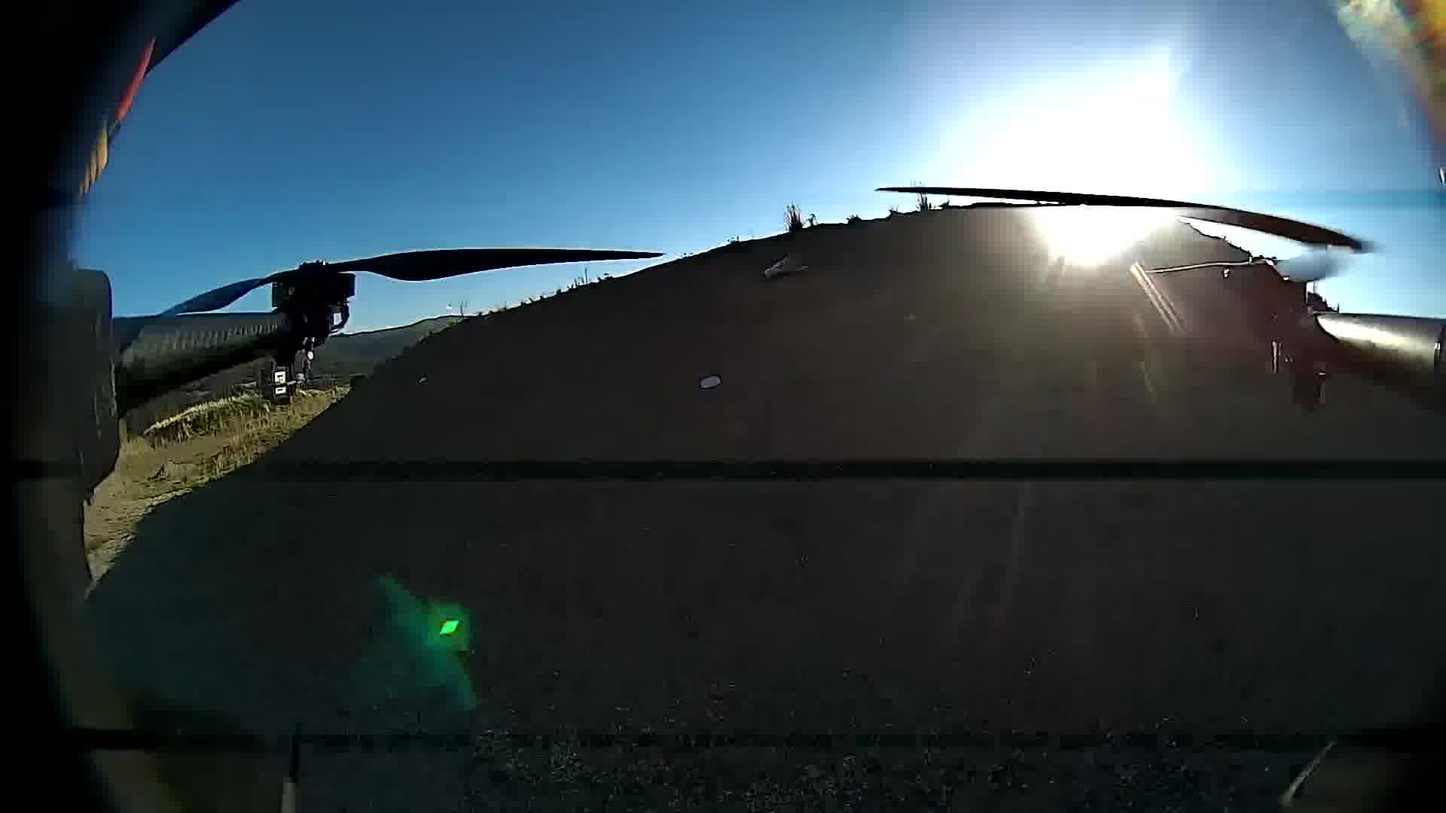Target: (697, 372, 722, 390)
